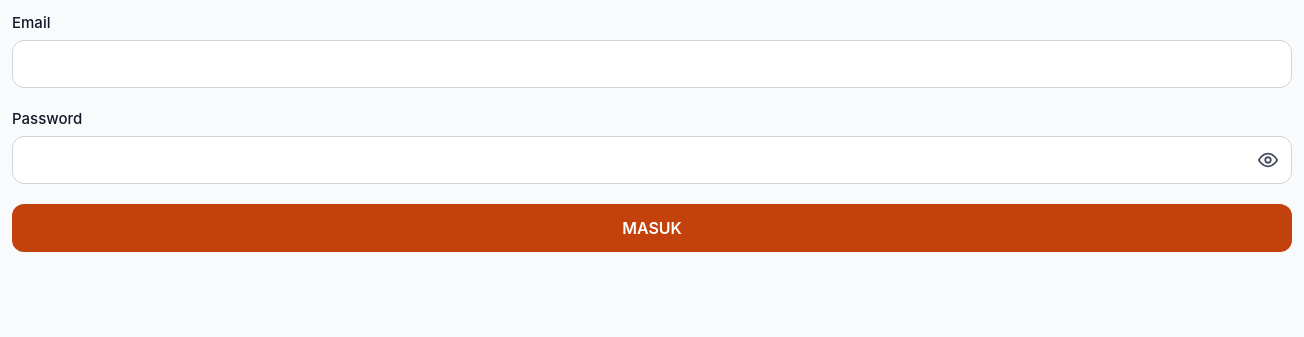
Test case: LoginForm › shows the error and allows another attempt after a failed login
Type "owner.a@warungkasir.test" into the field labelled "Email" at (652, 64), box [12,40,1292,88]
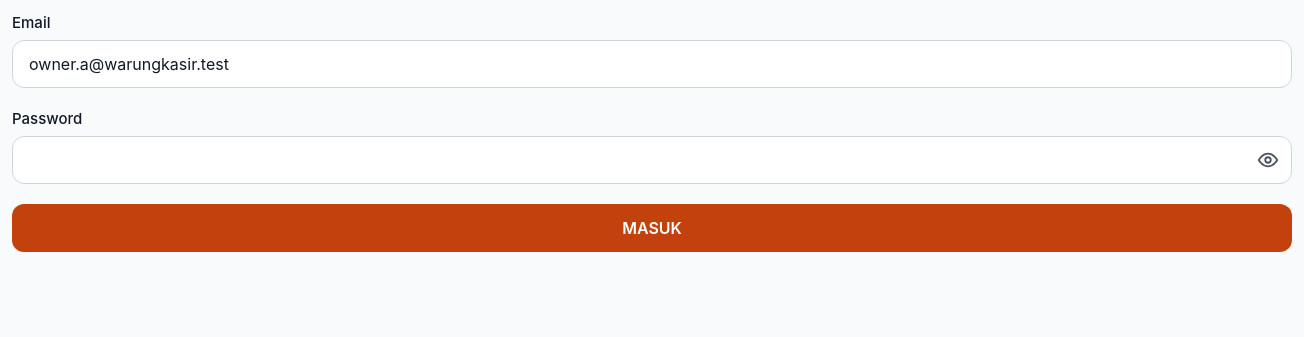
Type "salah" into the password field labelled "Password" at (652, 160), box [12,136,1292,184]
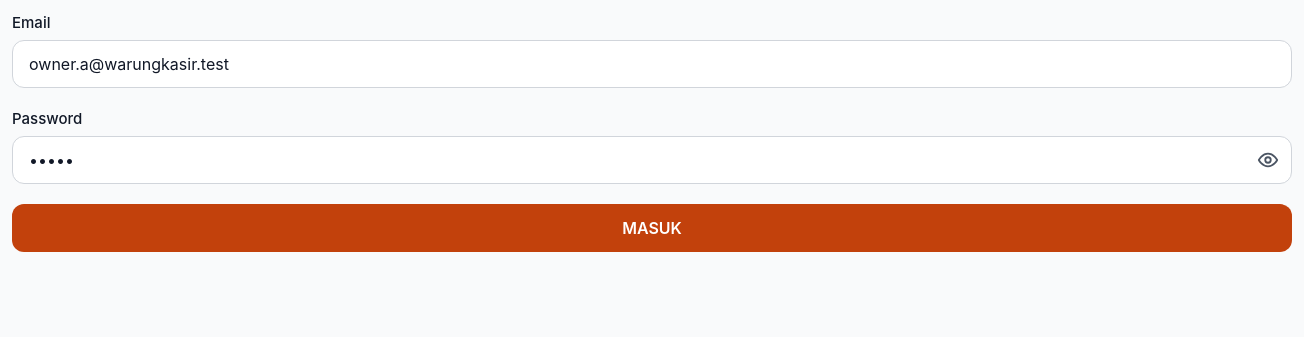
Click the button "MASUK" at (652, 228), box [12,204,1292,252]
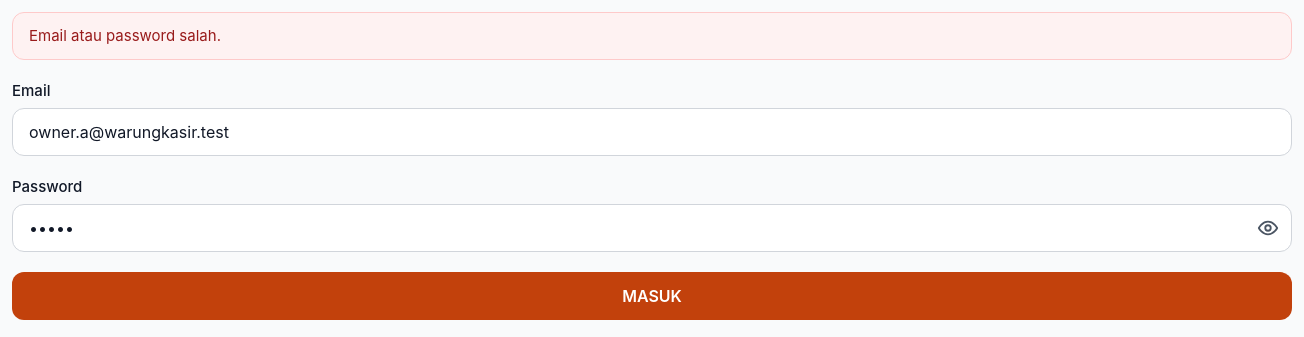
Expected: the button "MASUK" is enabled, [12,272,1292,320]
Result: the message reads "Email atau password salah." at [29,26,221,45]
